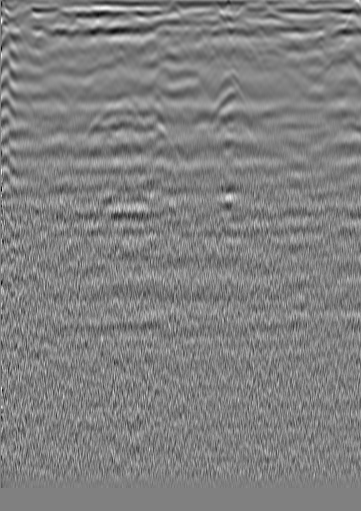가스: (210, 181, 244, 210)
상수: (312, 30, 332, 50)
오수: (32, 19, 52, 39)
우수: (152, 22, 172, 42)
